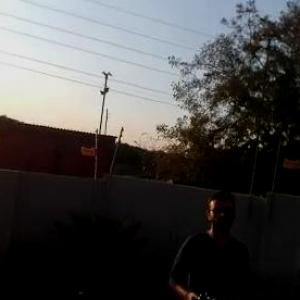follow: (160, 181, 255, 299)
